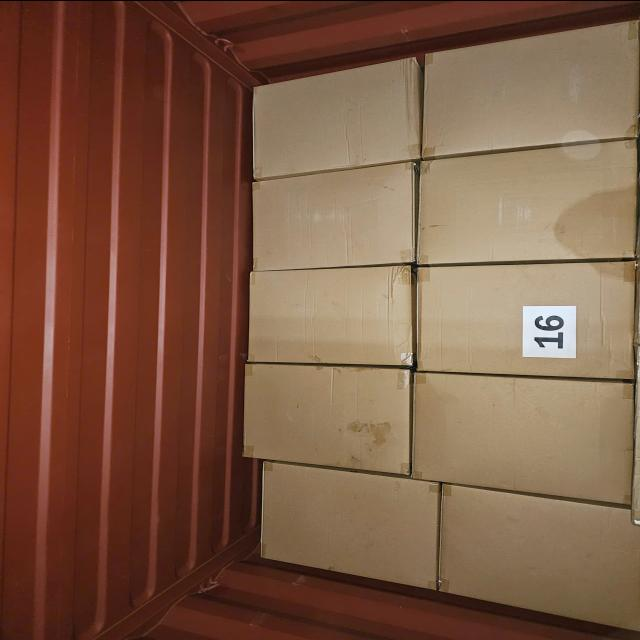Carton: (415, 378, 640, 498), (419, 144, 640, 262), (436, 485, 640, 611), (417, 263, 640, 376), (422, 34, 640, 148), (262, 468, 444, 576), (248, 72, 422, 178), (252, 165, 422, 269), (251, 269, 421, 369), (248, 371, 418, 468)
